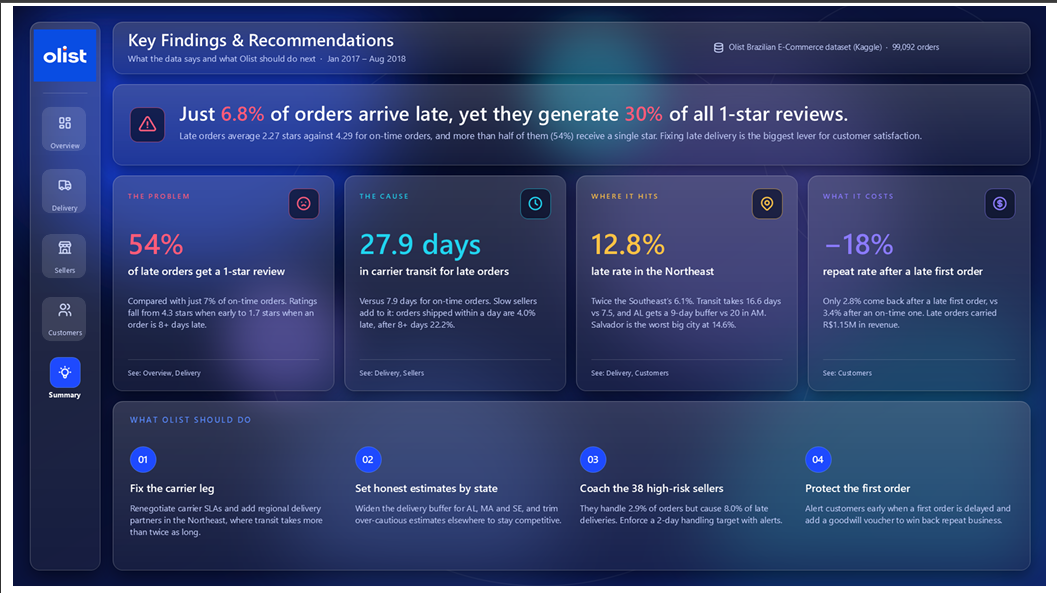

Layout of this report page (visuals, bound fields, positions):
{"tool":"powerbi","page":{"name":"Summary","canvas":[1920,1080],"ordinal":0},"visuals":[{"type":"actionButton","box":[51.8,302.4,82.1,82.1],"z":7000},{"type":"actionButton","box":[51.8,185.8,82.1,82.1],"z":8000},{"type":"actionButton","box":[51.8,423.4,82.1,82.1],"z":9000},{"type":"actionButton","box":[51.8,540,82.1,82.1],"z":9001}]}

Visuals, with their boxes in screenshot pixels (x1, y1, x2, y2), scaled from the page's 1920x1080 canvas onto the 1057x593 screenshot:
actionButton: box(29, 166, 74, 211)
actionButton: box(29, 102, 74, 147)
actionButton: box(29, 232, 74, 278)
actionButton: box(29, 296, 74, 342)
